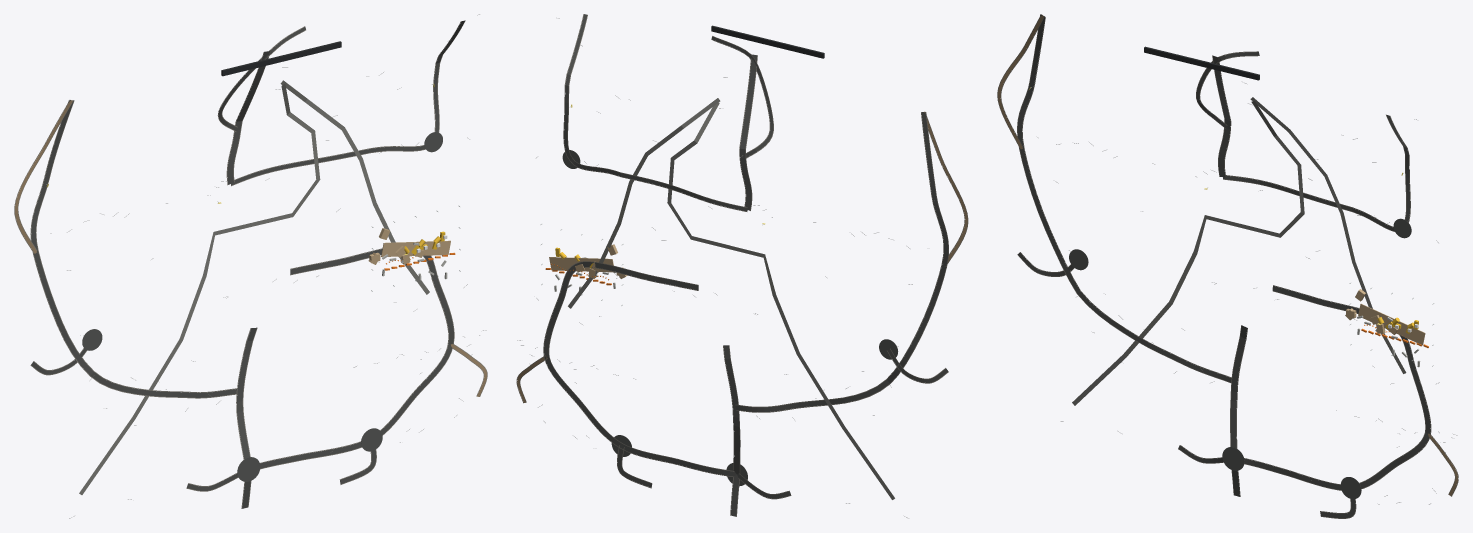
File: compact_roads.glb
3 views of the same model, side by side, from view 1: azimuth 30°, elevation 25°; view 2: azimuth 150°, elevation 25°; view 3: azimuth 330°, elevation 25° (orthographic). The views are drawn at different scales.
Parts seen in each view (by area): view 1: ROAD_West_Industrial_Landslide, Ref_Main_Road_Accent_Left_To_Dam, ROAD_EastLoop_Roadwork_Agri_Logistics, ROAD_MainSpine, ROAD_Power_Telecom_Service, Ref_Right_Service_Road_Accent, SM_Dam_Service_Road, SM_RW_Unfinished_Roadbed, ROAD_Landslide_Service, ROAD_West_Industrial_Landslide_Shoulder_L, ROAD_West_Industrial_Landslide_Shoulder_R; view 2: ROAD_EastLoop_Roadwork_Agri_Logistics, ROAD_West_Industrial_Landslide, Ref_Main_Road_Accent_Left_To_Dam, ROAD_MainSpine, ROAD_Power_Telecom_Service, Ref_Right_Service_Road_Accent, SM_Dam_Service_Road, ROAD_EastLoop_Roadwork_Agri_Logistics_Shoulder_L, ROAD_West_Industrial_Landslide_Shoulder_R, ROAD_Dam_Access, ROAD_West_Industrial_Landslide_Shoulder_L, SM_RW_Unfinished_Roadbed (+1 smaller); view 3: ROAD_West_Industrial_Landslide, Ref_Main_Road_Accent_Left_To_Dam, ROAD_EastLoop_Roadwork_Agri_Logistics, ROAD_MainSpine, Ref_Right_Service_Road_Accent, ROAD_Power_Telecom_Service, SM_Dam_Service_Road, SM_RW_Unfinished_Roadbed, ROAD_West_Industrial_Landslide_Shoulder_R, ROAD_Landslide_Service, ROAD_West_Industrial_Landslide_Shoulder_L.
Part boxes in pixels (x1=…): ROAD_West_Industrial_Landslide: x1=31, y1=100, x2=239, y2=397; Ref_Main_Road_Accent_Left_To_Dam: x1=79, y1=83, x2=320, y2=494; ROAD_EastLoop_Roadwork_Agri_Logistics: x1=260, y1=249, x2=453, y2=468; ROAD_MainSpine: x1=227, y1=51, x2=269, y2=508; ROAD_Power_Telecom_Service: x1=231, y1=20, x2=464, y2=185; Ref_Right_Service_Road_Accent: x1=280, y1=80, x2=429, y2=294; SM_Dam_Service_Road: x1=221, y1=41, x2=341, y2=76; SM_RW_Unfinished_Roadbed: x1=381, y1=240, x2=450, y2=256; ROAD_Landslide_Service: x1=15, y1=100, x2=72, y2=253; ROAD_West_Industrial_Landslide_Shoulder_L: x1=30, y1=100, x2=236, y2=398; ROAD_West_Industrial_Landslide_Shoulder_R: x1=36, y1=100, x2=236, y2=392; ROAD_EastLoop_Roadwork_Agri_Logistics: x1=544, y1=262, x2=736, y2=476; ROAD_West_Industrial_Landslide: x1=735, y1=112, x2=948, y2=411; Ref_Main_Road_Accent_Left_To_Dam: x1=667, y1=102, x2=894, y2=499; ROAD_MainSpine: x1=723, y1=54, x2=757, y2=516; ROAD_Power_Telecom_Service: x1=564, y1=14, x2=747, y2=211; Ref_Right_Service_Road_Accent: x1=568, y1=98, x2=720, y2=308; SM_Dam_Service_Road: x1=711, y1=25, x2=824, y2=58; ROAD_EastLoop_Roadwork_Agri_Logistics_Shoulder_L: x1=543, y1=261, x2=733, y2=477; ROAD_West_Industrial_Landslide_Shoulder_R: x1=735, y1=112, x2=943, y2=407; ROAD_Dam_Access: x1=711, y1=36, x2=773, y2=157; ROAD_West_Industrial_Landslide_Shoulder_L: x1=736, y1=112, x2=948, y2=412; SM_RW_Unfinished_Roadbed: x1=549, y1=257, x2=614, y2=272; ROAD_West_Industrial_Landslide: x1=1017, y1=14, x2=1234, y2=383; Ref_Main_Road_Accent_Left_To_Dam: x1=1072, y1=101, x2=1304, y2=405; ROAD_EastLoop_Roadwork_Agri_Logistics: x1=1244, y1=286, x2=1430, y2=489; ROAD_MainSpine: x1=1213, y1=55, x2=1247, y2=496; Ref_Right_Service_Road_Accent: x1=1250, y1=97, x2=1406, y2=373; ROAD_Power_Telecom_Service: x1=1223, y1=115, x2=1410, y2=230; SM_Dam_Service_Road: x1=1144, y1=46, x2=1259, y2=80; SM_RW_Unfinished_Roadbed: x1=1358, y1=303, x2=1425, y2=345; ROAD_West_Industrial_Landslide_Shoulder_R: x1=1022, y1=17, x2=1231, y2=377; ROAD_Landslide_Service: x1=997, y1=15, x2=1043, y2=149; ROAD_West_Industrial_Landslide_Shoulder_L: x1=1017, y1=14, x2=1230, y2=382.
Bounding box in the file's own units: 661 × 644 × 93.39.
